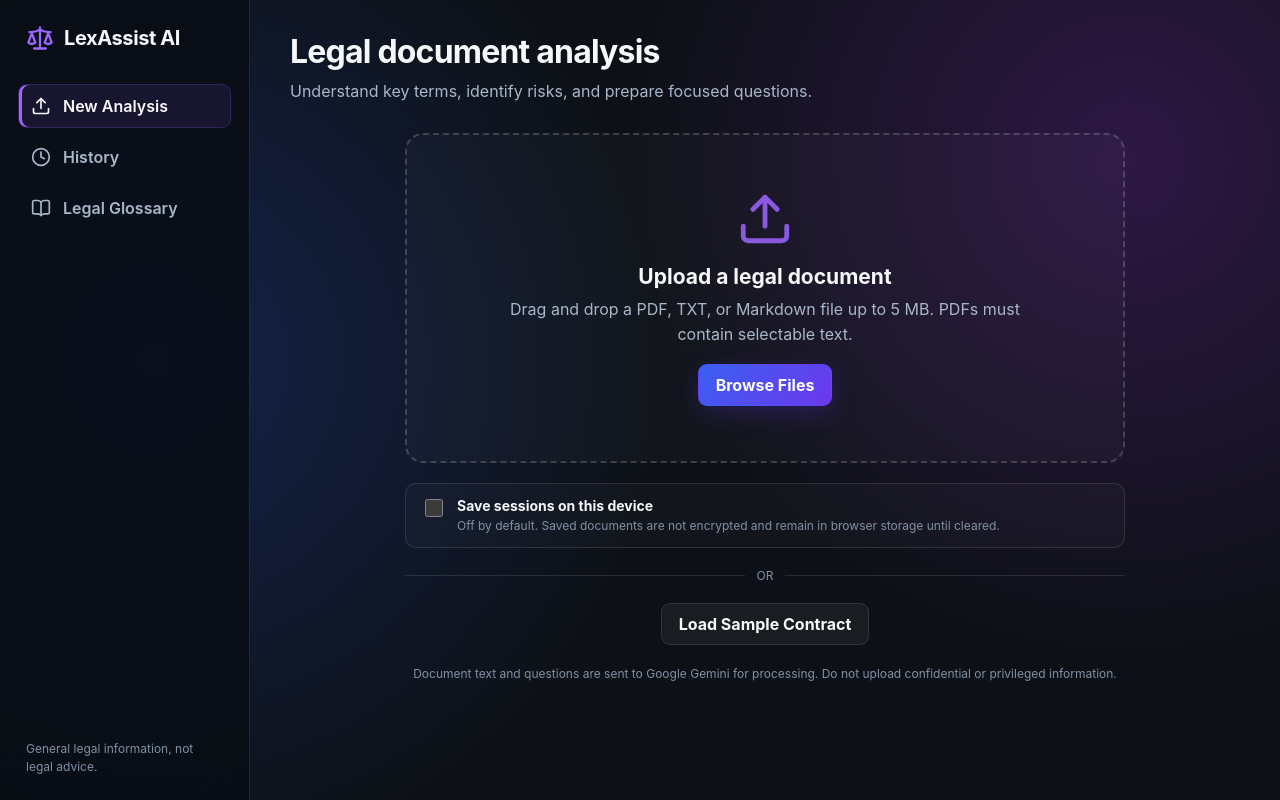
Test case: App workflows › restores a saved session and synchronizes the storage preference
Click the button "History".
click(124, 157)  # box [18,135,231,179]
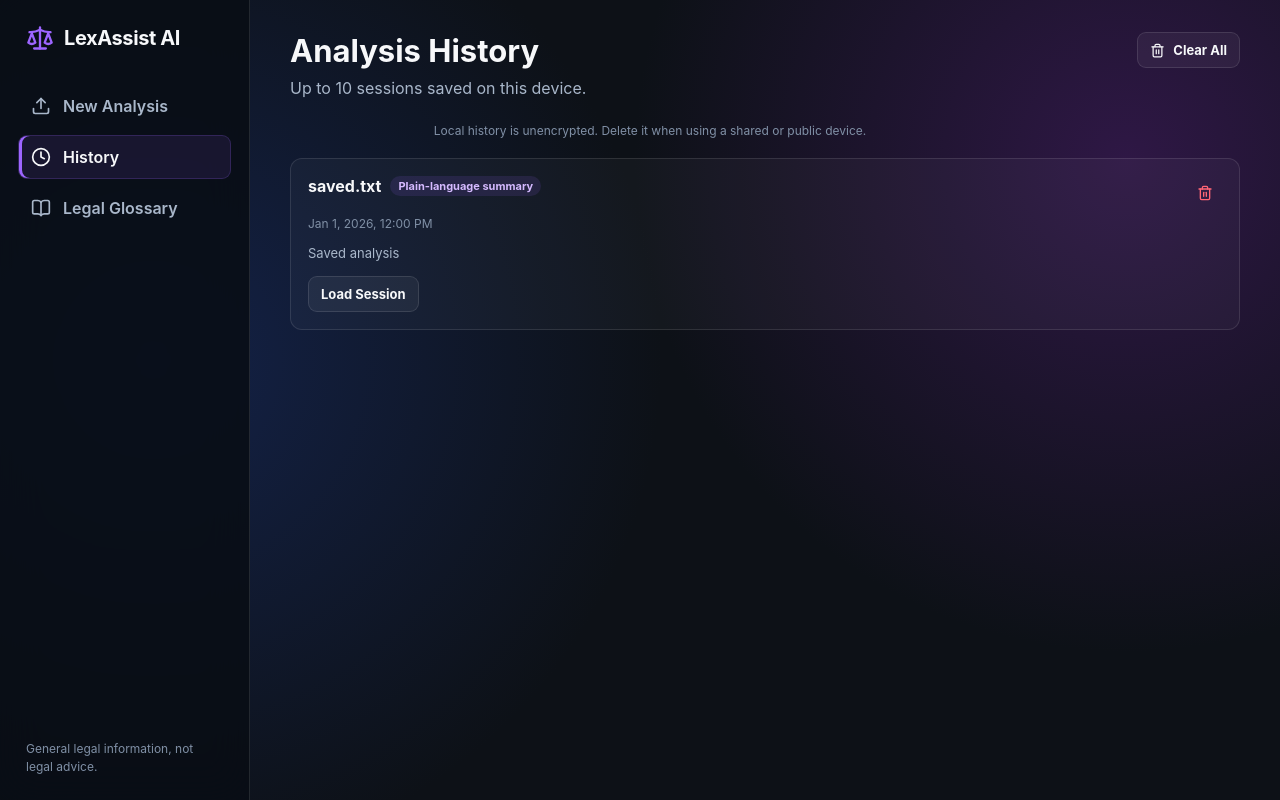
Expected: the text "saved.txt" is shown, [308,176,382,196]
Click the button "Load Session".
click(363, 294)  # box [308,276,419,312]
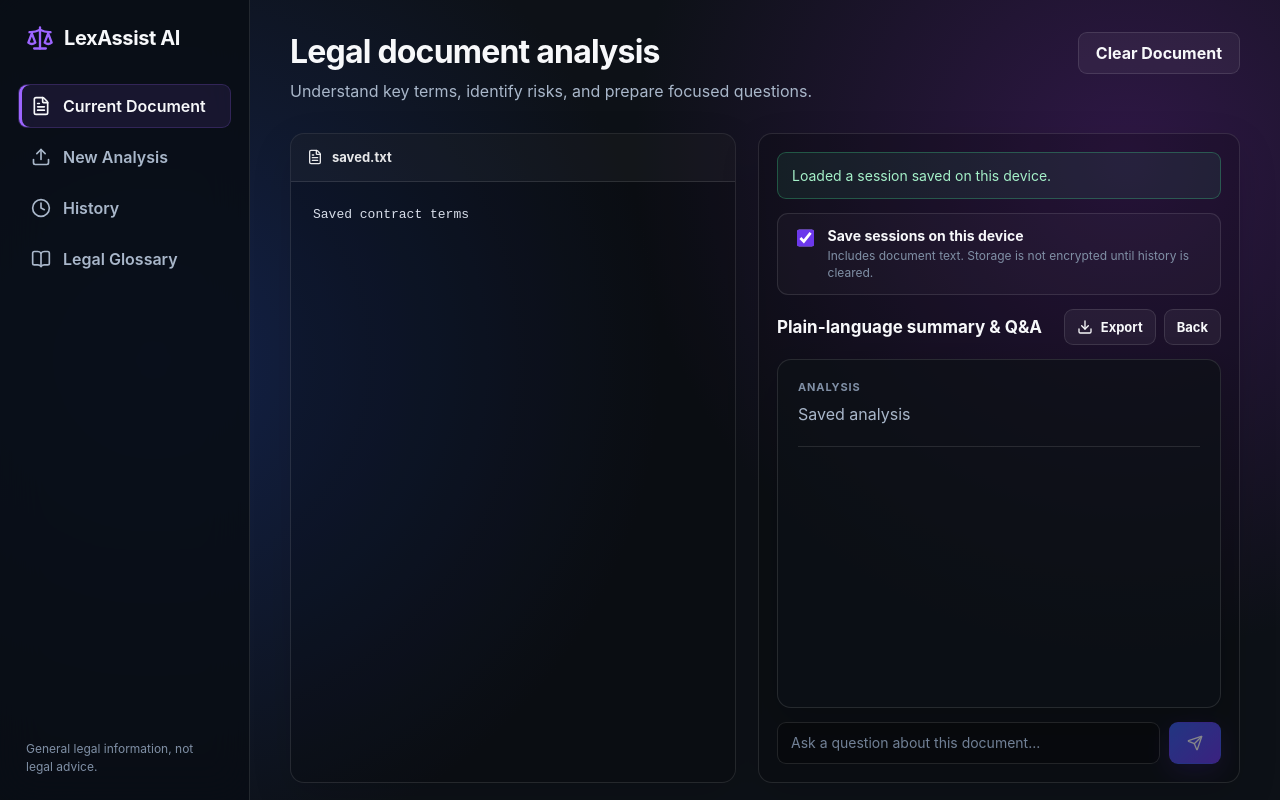
Expected: the text "Saved contract terms" is shown, [313,207,469,222]
Expected: the checkbox labelled "Save sessions on this device" is checked, [797,229,814,247]
Expected: the text "Loaded a session saved on this device." is shown, [777,152,1221,199]
